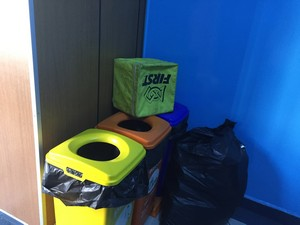cube: (114, 57, 179, 116)
